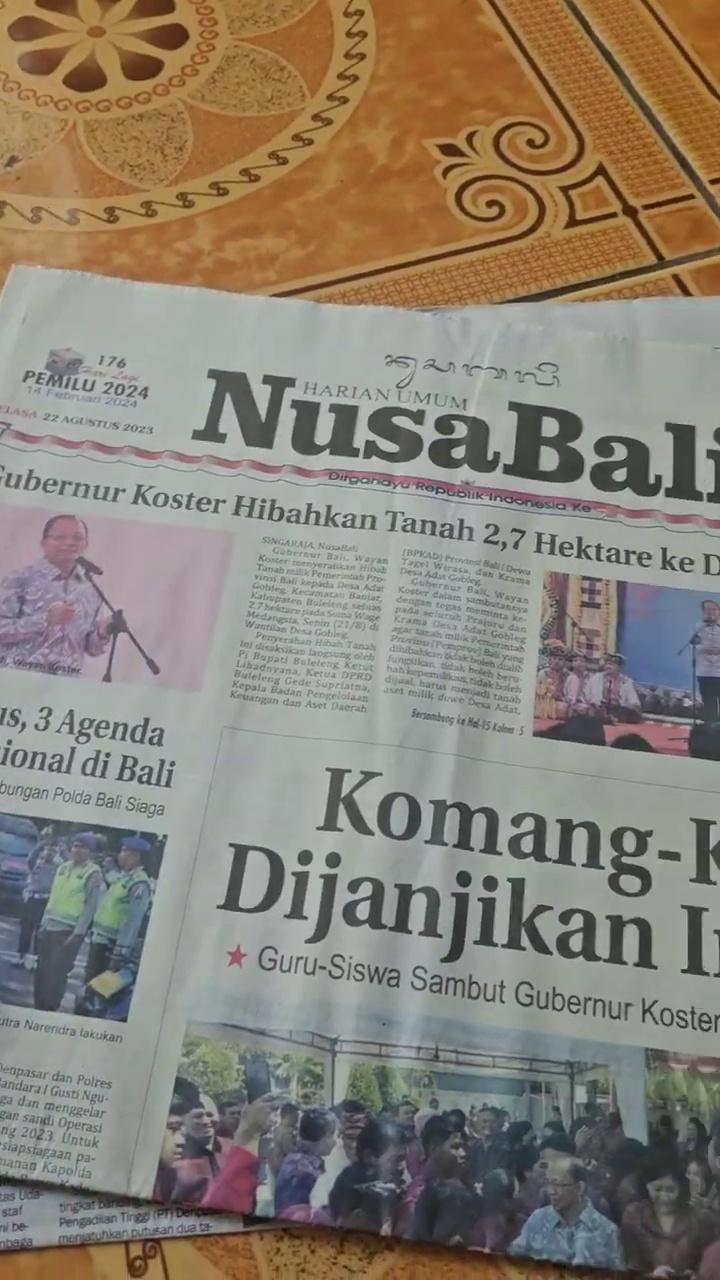Kertas: (5, 270, 708, 1230)
